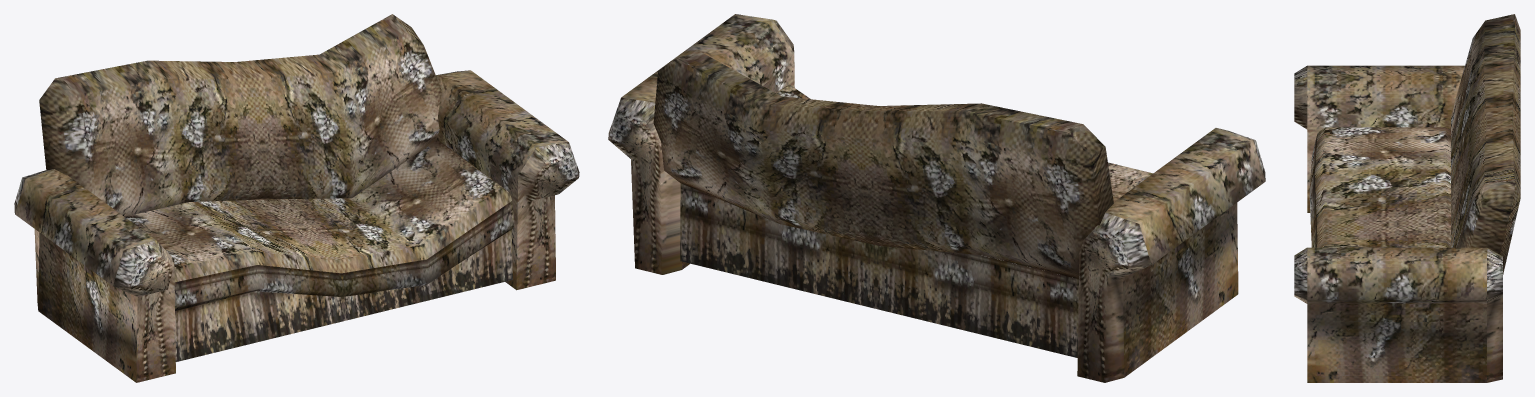
Rendered from Sofa01.glb.
3 renders of one model, left to right at view 1: azimuth 30°, elevation 25°; view 2: azimuth 150°, elevation 25°; view 3: azimuth 270°, elevation 25°, orthographic. The views are drawn at different scales.
Visible parts, largest first — view 1: _Sofa01; view 2: _Sofa01; view 3: _Sofa01.
Boxes of the visible parts, x1,y1,x2,y2 form: _Sofa01: [14, 14, 579, 382]; _Sofa01: [608, 14, 1265, 382]; _Sofa01: [1294, 14, 1520, 382].
Size of the model in its own units: 2.73 by 1.19 by 1.25.
Materials: 1 (1 with a texture image).
